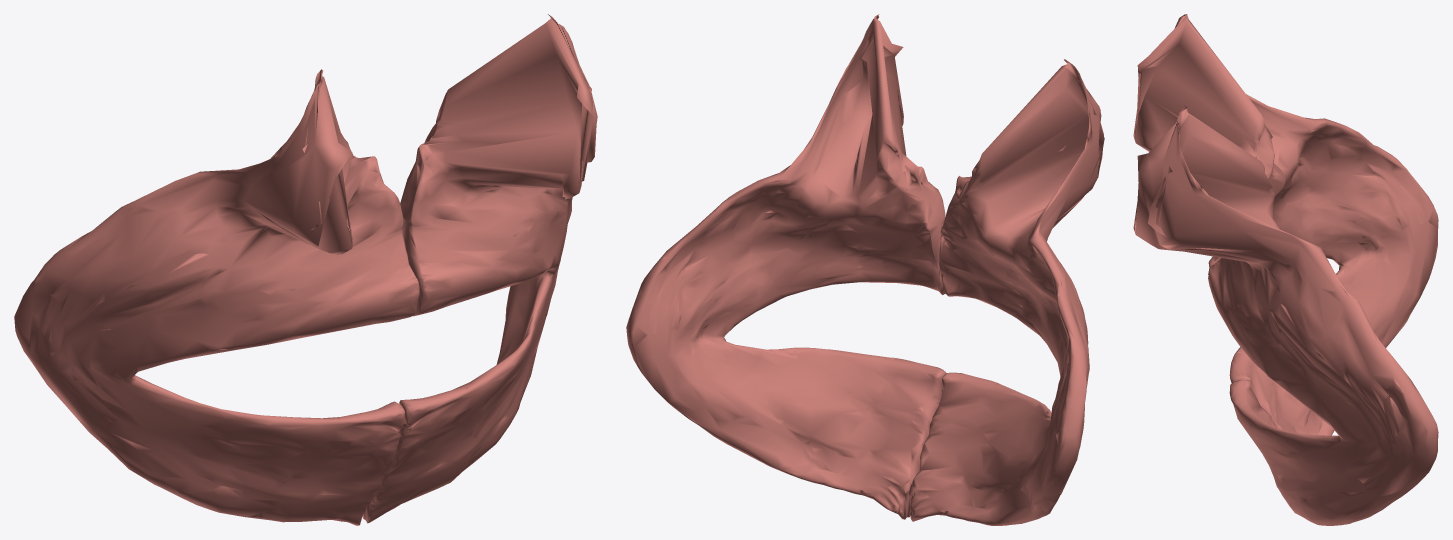
The model's file is orbicularis_oris_lod1.glb.
3 views of the same model, side by side, from view 1: azimuth 30°, elevation 25°; view 2: azimuth 150°, elevation 25°; view 3: azimuth 270°, elevation 25° (orthographic). The views are drawn at different scales.
Parts seen in each view (by area): view 1: orbicularis_oris_R_lod1, orbicularis_oris_L_lod1; view 2: orbicularis_oris_L_lod1, orbicularis_oris_R_lod1; view 3: orbicularis_oris_L_lod1, orbicularis_oris_R_lod1.
Boxes of the visible parts, <box> form: orbicularis_oris_R_lod1: <box>14,69,419,525</box>; orbicularis_oris_L_lod1: <box>362,14,597,523</box>; orbicularis_oris_L_lod1: <box>626,14,946,519</box>; orbicularis_oris_R_lod1: <box>908,59,1104,525</box>; orbicularis_oris_L_lod1: <box>1133,105,1438,525</box>; orbicularis_oris_R_lod1: <box>1133,14,1438,435</box>.
Size of the model in its own units: 0.064 by 0.0594 by 0.0371.
